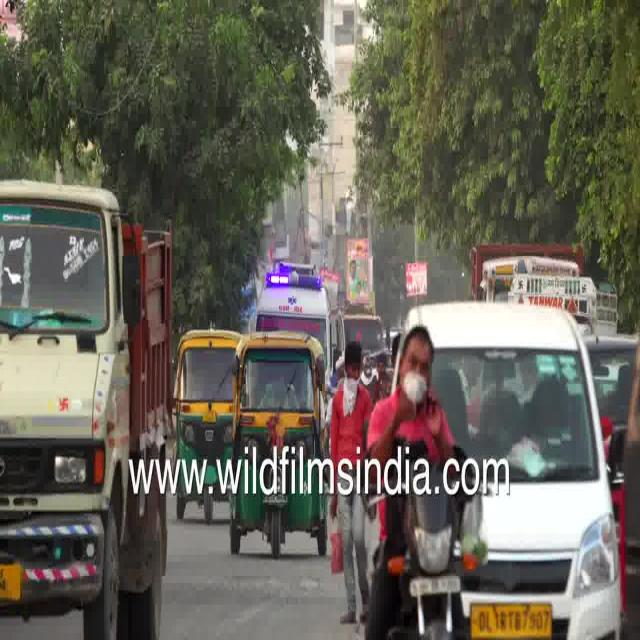ambulance: (248, 255, 349, 341)
